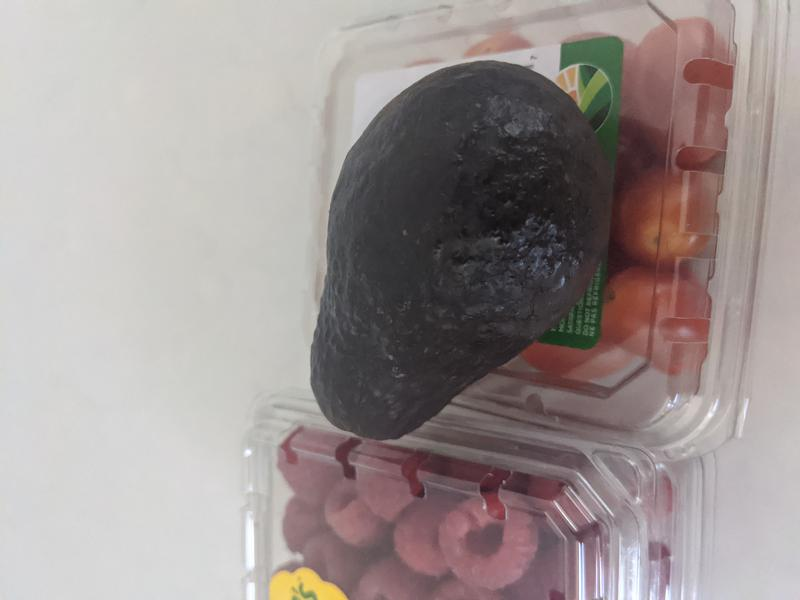avocado: (308, 58, 615, 441)
